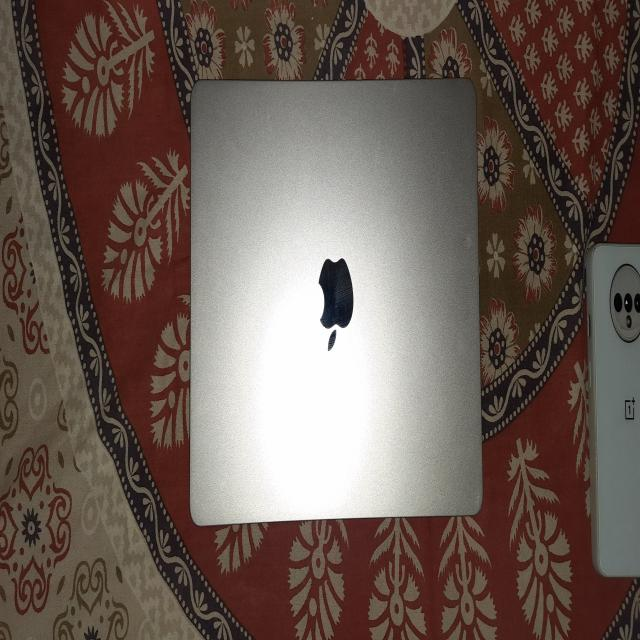Laptop-and-Mobile: (183, 62, 488, 534)
Mobile: (585, 234, 640, 602)
